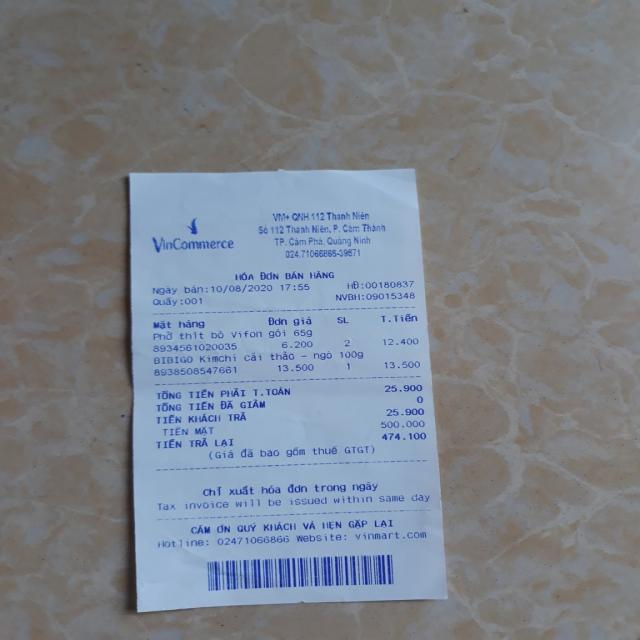Date: (210, 282, 274, 294)
Store_Name: (143, 233, 238, 258)
amount_number: (383, 382, 425, 392)
label_total: (153, 386, 294, 398)
